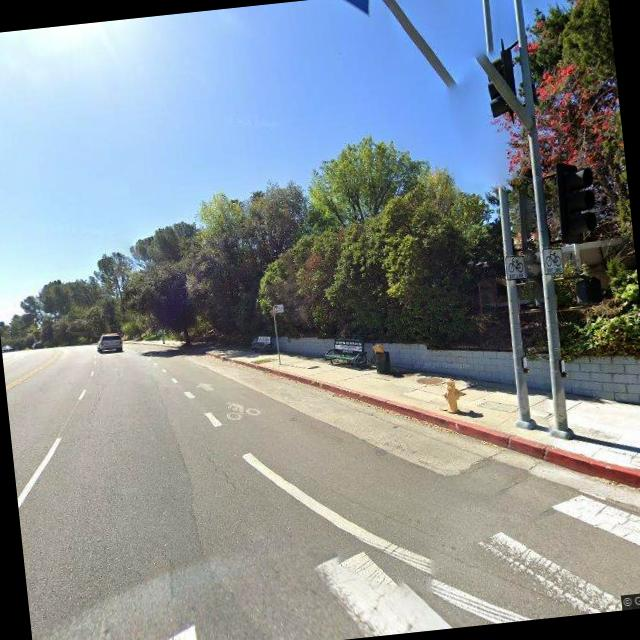crack: (202, 439, 240, 496), (80, 378, 108, 423)
